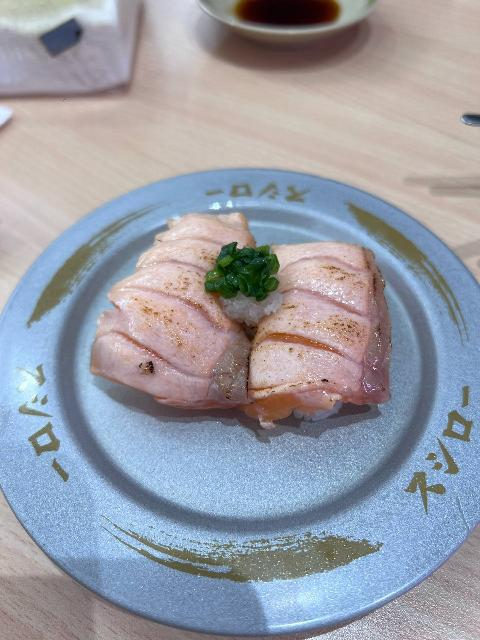janwhite: (40, 170, 450, 619)
